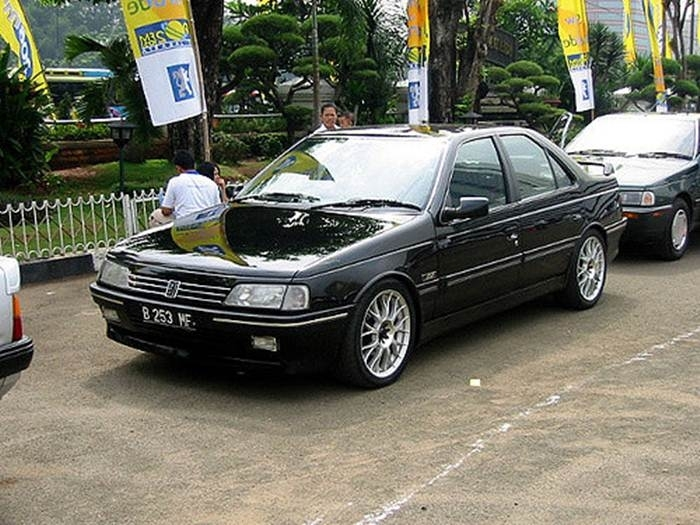plate: (142, 306, 190, 332)
